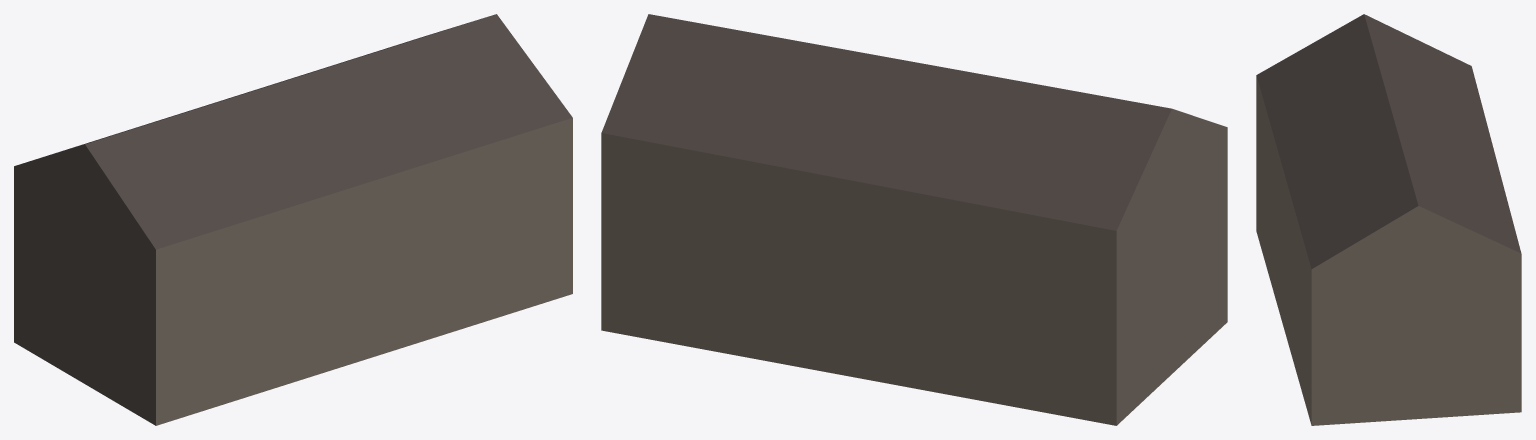
3 renders of one model, left to right at view 1: azimuth 30°, elevation 25°; view 2: azimuth 150°, elevation 25°; view 3: azimuth 270°, elevation 25°, orthographic. The views are drawn at different scales.
Visible parts, largest first — view 1: HP-w1343630535; view 2: HP-w1343630535; view 3: HP-w1343630535.
Part boxes in pixels (left/top/right/bottom): HP-w1343630535: left=14, top=14, right=572, bottom=425; HP-w1343630535: left=601, top=14, right=1227, bottom=425; HP-w1343630535: left=1256, top=14, right=1521, bottom=425.
Size of the model in its own units: 25.06 by 12.25 by 13.8.
